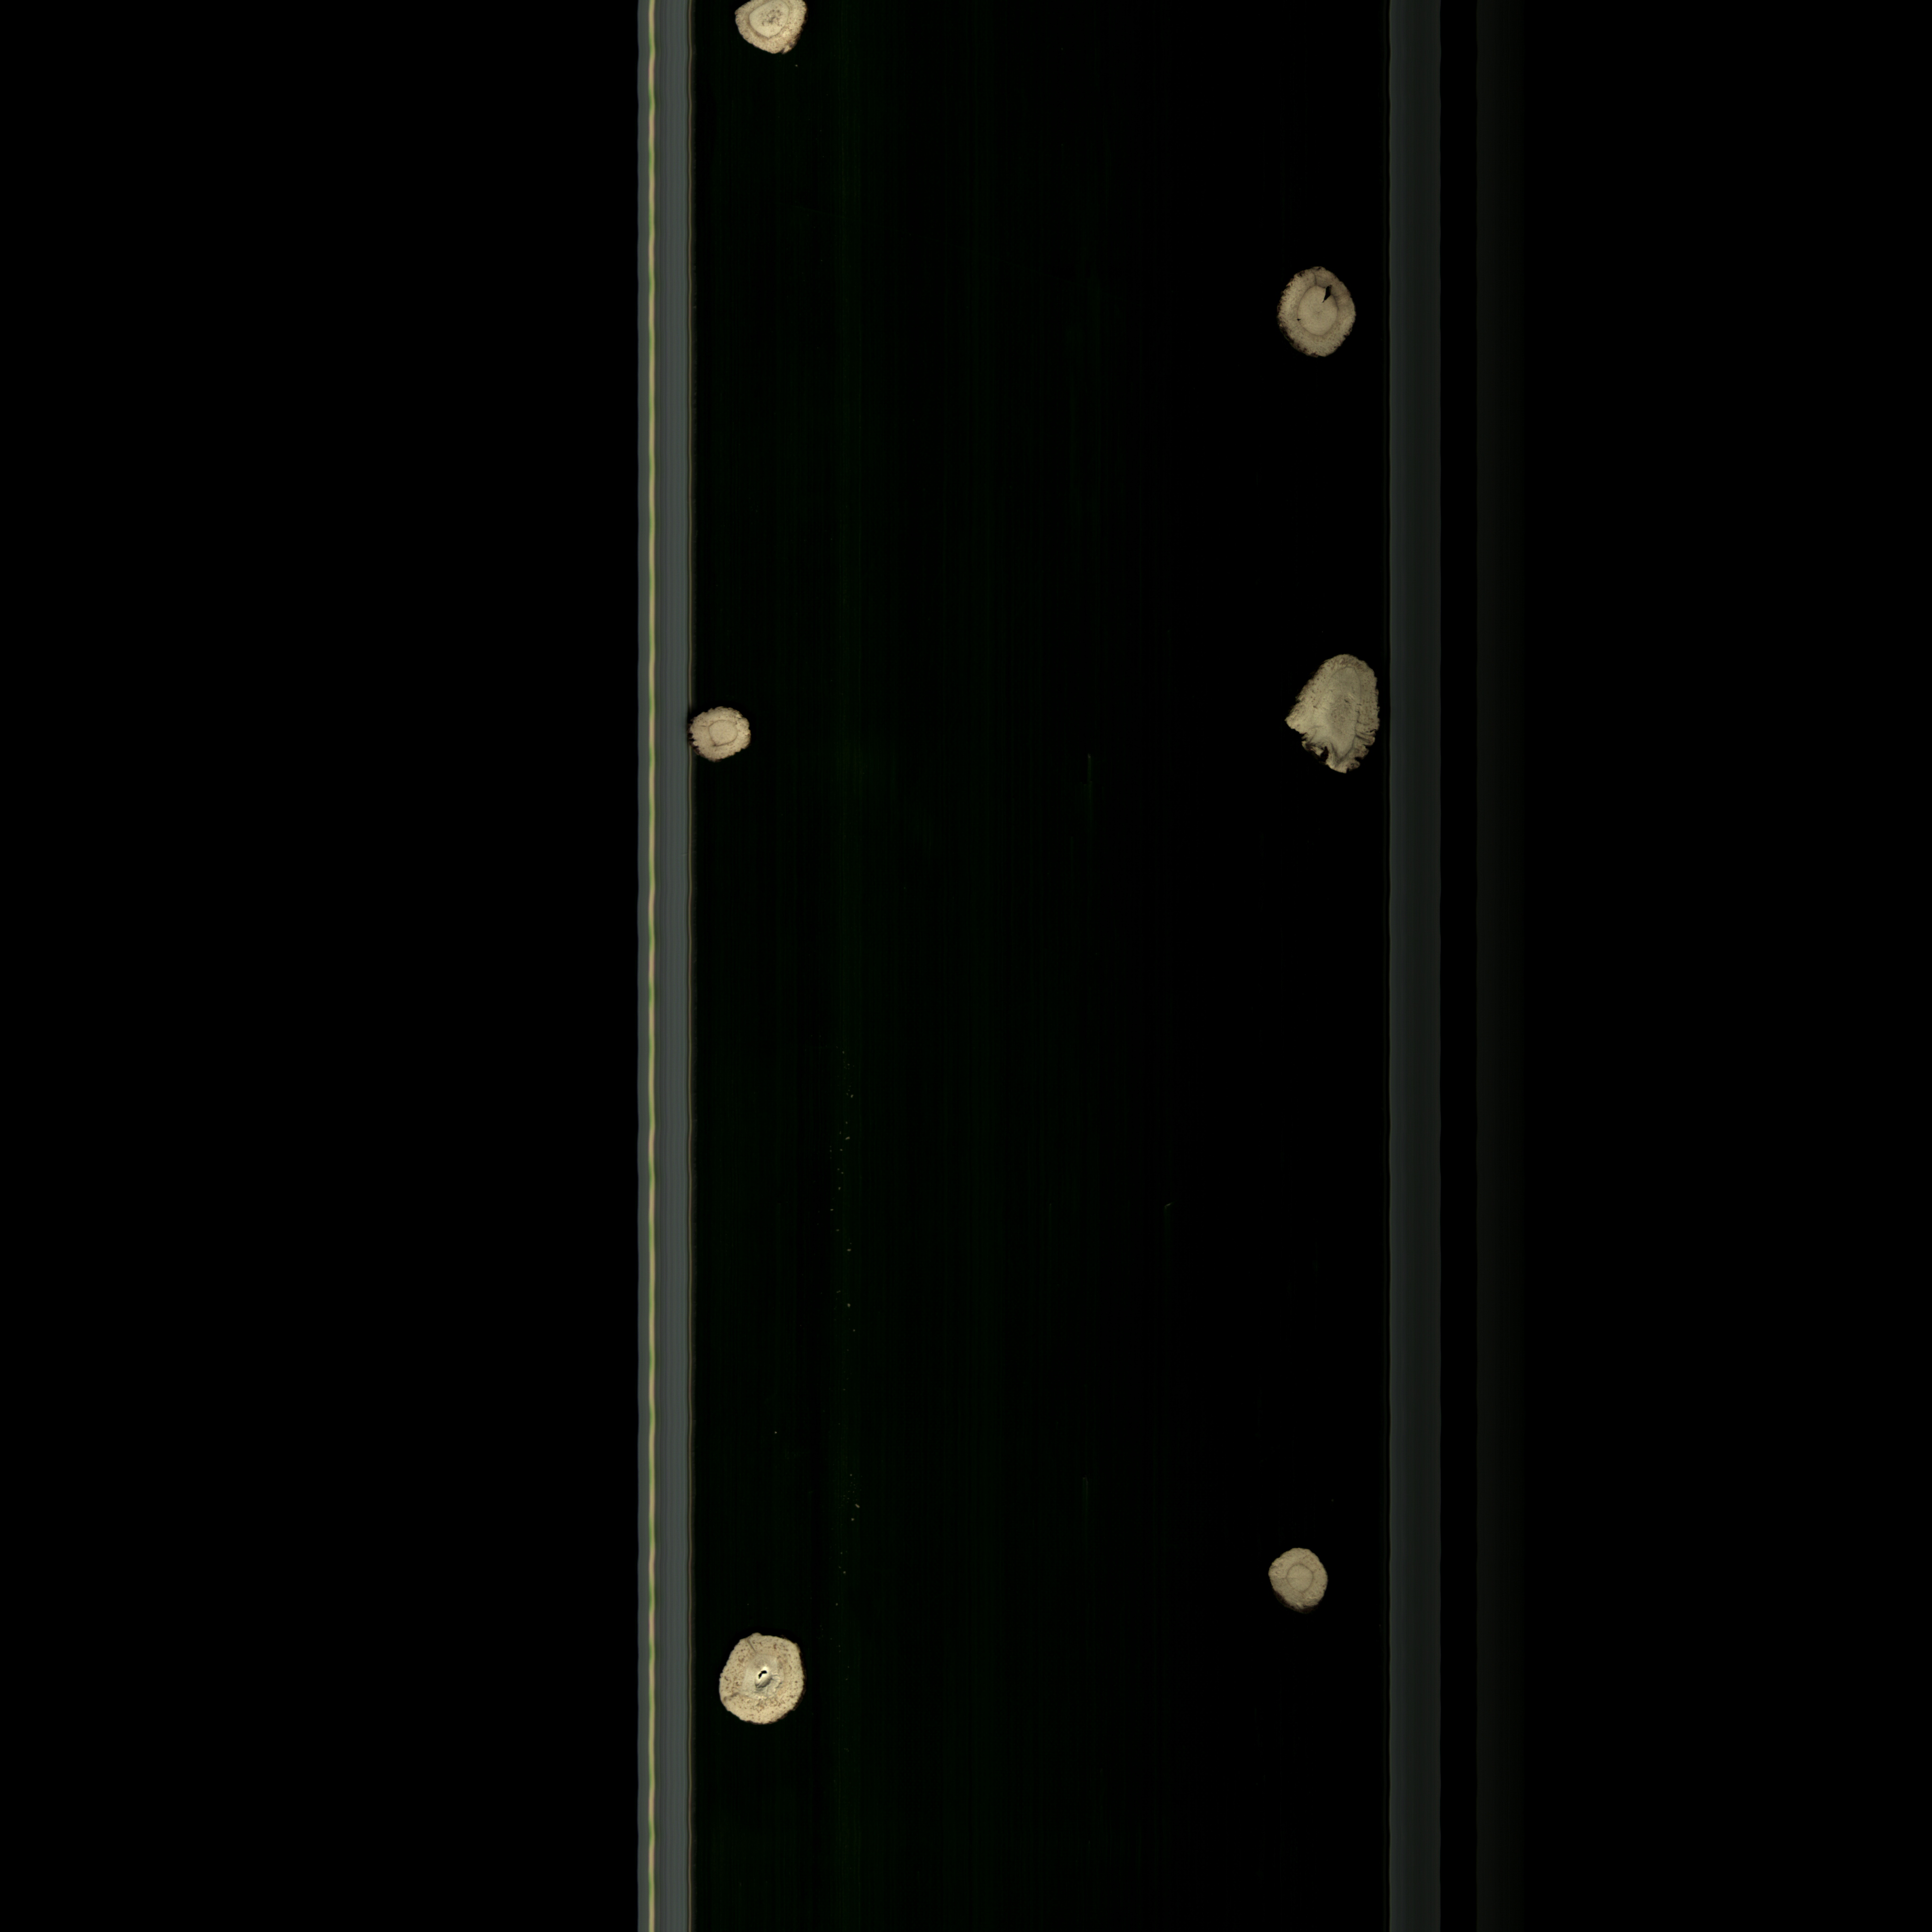distortion: (1283, 642, 1380, 791)
hole: (706, 1629, 824, 1736), (1272, 260, 1362, 377)
moldy: (727, 0, 821, 67)
